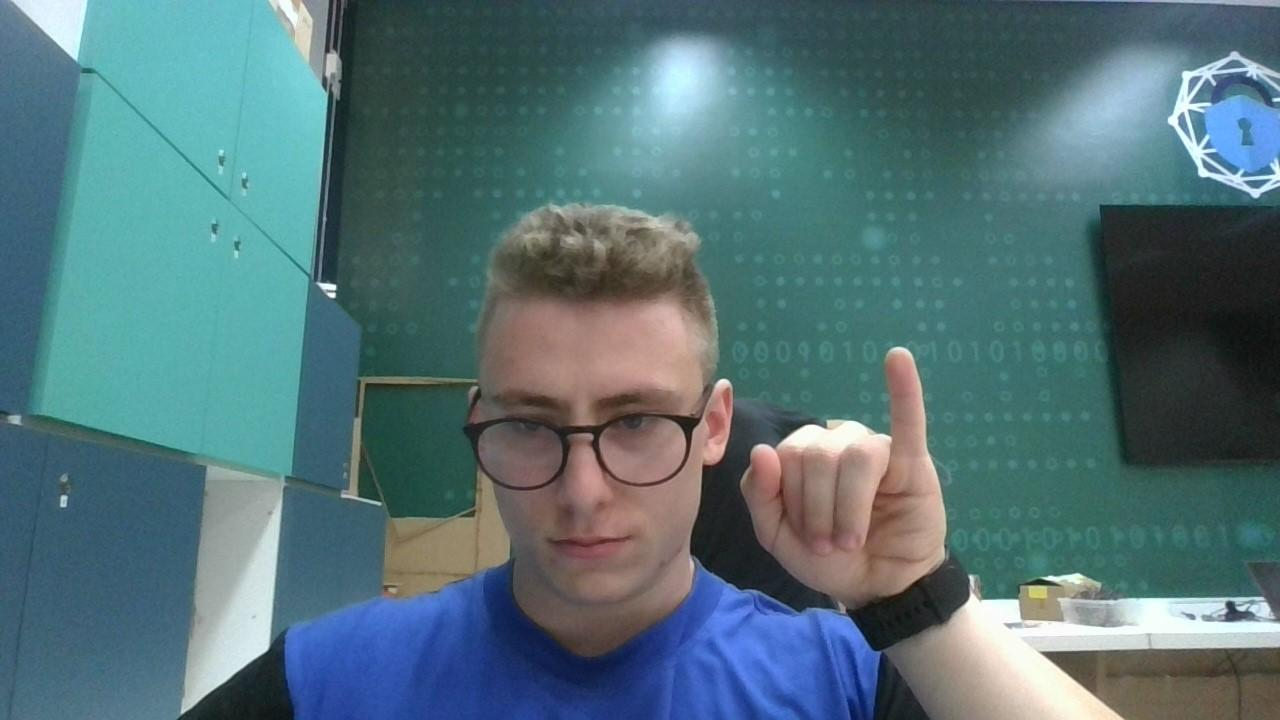I: (734, 350, 958, 582)
